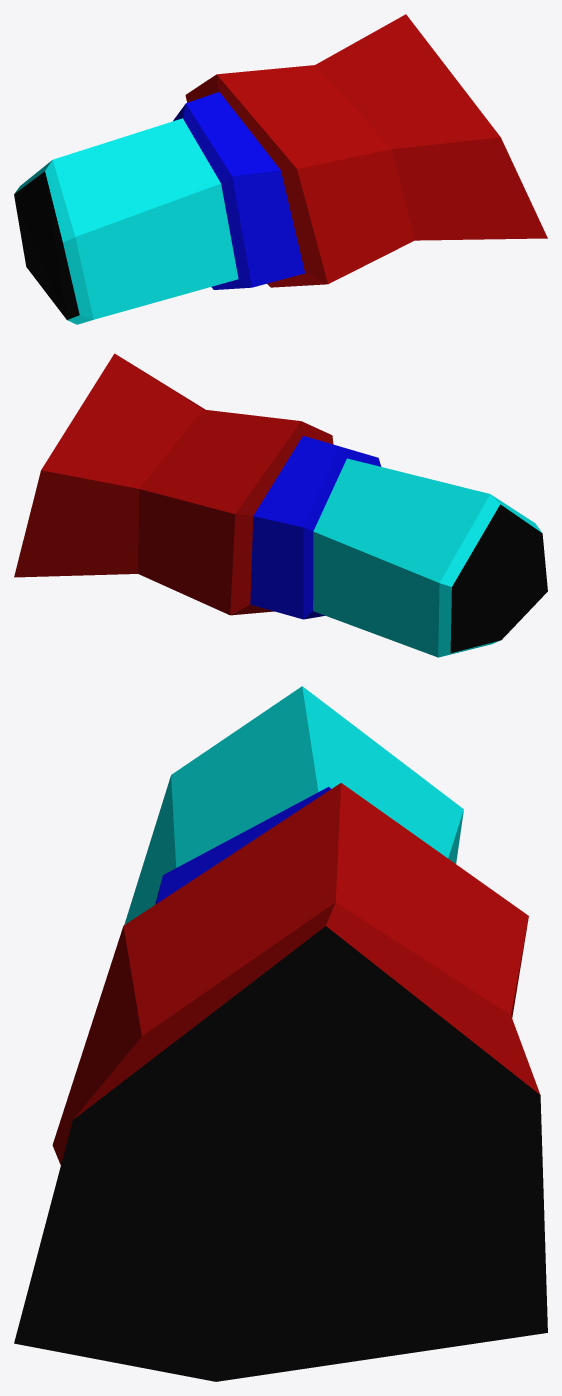
File: Chr_ArmUpperRight_Male_Static_05.fbx
3 renders of one model, top to bottom at view 1: azimuth 30°, elevation 25°; view 2: azimuth 150°, elevation 25°; view 3: azimuth 270°, elevation 25°, orthographic. The views are drawn at different scales.
Parts seen in each view (by area): view 1: Chr_ArmUpperRight_Male_05; view 2: Chr_ArmUpperRight_Male_05; view 3: Chr_ArmUpperRight_Male_05.
Part boxes in pixels (left/top/right/bottom): Chr_ArmUpperRight_Male_05: left=14, top=14, right=547, bottom=324; Chr_ArmUpperRight_Male_05: left=14, top=353, right=547, bottom=657; Chr_ArmUpperRight_Male_05: left=14, top=686, right=547, bottom=1381.
Size of the model in its own units: 32.67 by 15.86 by 17.36.
